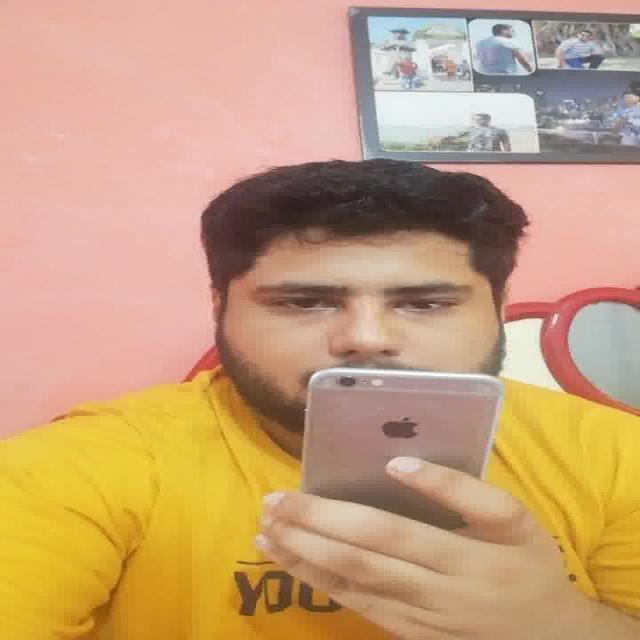Phone: (297, 370, 503, 497)
